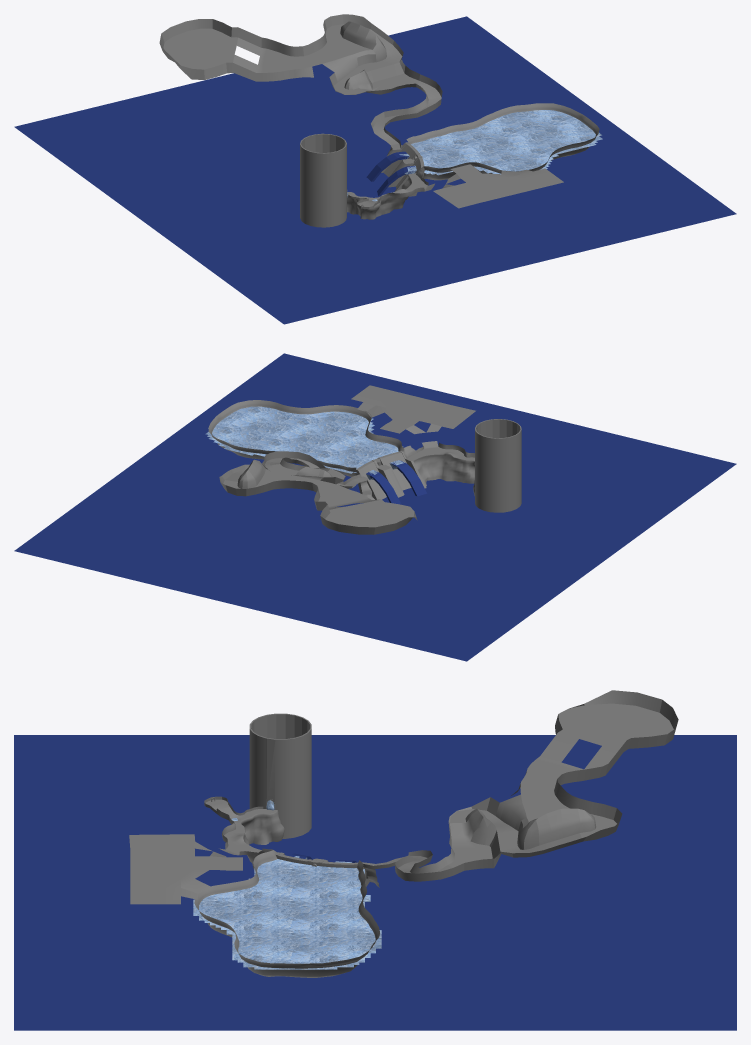
Rendered from IceWorldPRESENT.obj.
3 renders of one model, top to bottom at view 1: azimuth 30°, elevation 25°; view 2: azimuth 150°, elevation 25°; view 3: azimuth 270°, elevation 25°, orthographic. The views are drawn at different scales.
Parts seen in each view (by area): view 1: oceanLayer, Terrain, damIce, tempTower4, Dam, Dam DampipeWater; view 2: oceanLayer, Terrain, damIce, tempTower4, Dam, Dam DampipeWater; view 3: oceanLayer, Terrain, damIce, tempTower4, Dam.
Boxes of the visible parts, x1,y1,x2,y2 form: oceanLayer: (14,16,736,324); Terrain: (159,14,599,219); damIce: (411,110,602,175); tempTower4: (300,133,346,227); Dam: (381,142,424,196); Dam DampipeWater: (366,151,415,196); oceanLayer: (14,353,736,661); Terrain: (208,385,475,534); damIce: (205,406,403,473); tempTower4: (475,419,521,512); Dam: (355,450,426,499); Dam DampipeWater: (366,461,426,504); oceanLayer: (14,735,736,1030); Terrain: (129,690,678,977); damIce: (193,859,381,969); tempTower4: (249,713,311,838); Dam: (275,852,369,886).
Size of the model in its own units: 383 by 76.91 by 395.
3 materials, 1 textured.
